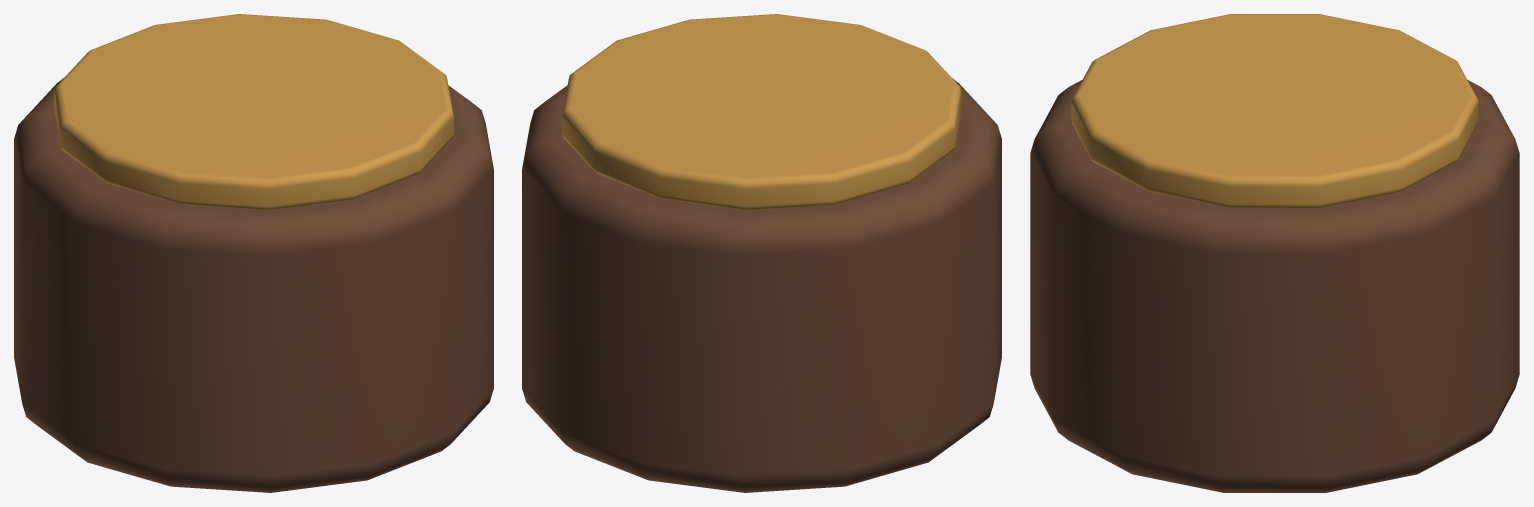
The model's file is prop_stump.glb.
The picture shows the model from 3 angles, left to right: view 1: azimuth 30°, elevation 25°; view 2: azimuth 150°, elevation 25°; view 3: azimuth 270°, elevation 25°; orthographic projection.
Parts seen in each view (by area): view 1: stump, stump_top; view 2: stump, stump_top; view 3: stump, stump_top.
Boxes of the visible parts, bbox=[...] form: stump: bbox=[14, 78, 493, 492]; stump_top: bbox=[54, 14, 453, 210]; stump: bbox=[522, 78, 1001, 492]; stump_top: bbox=[562, 14, 961, 210]; stump: bbox=[1030, 80, 1519, 492]; stump_top: bbox=[1071, 14, 1478, 207].
Size of the model in its own units: 0.468 by 0.3325 by 0.48.
